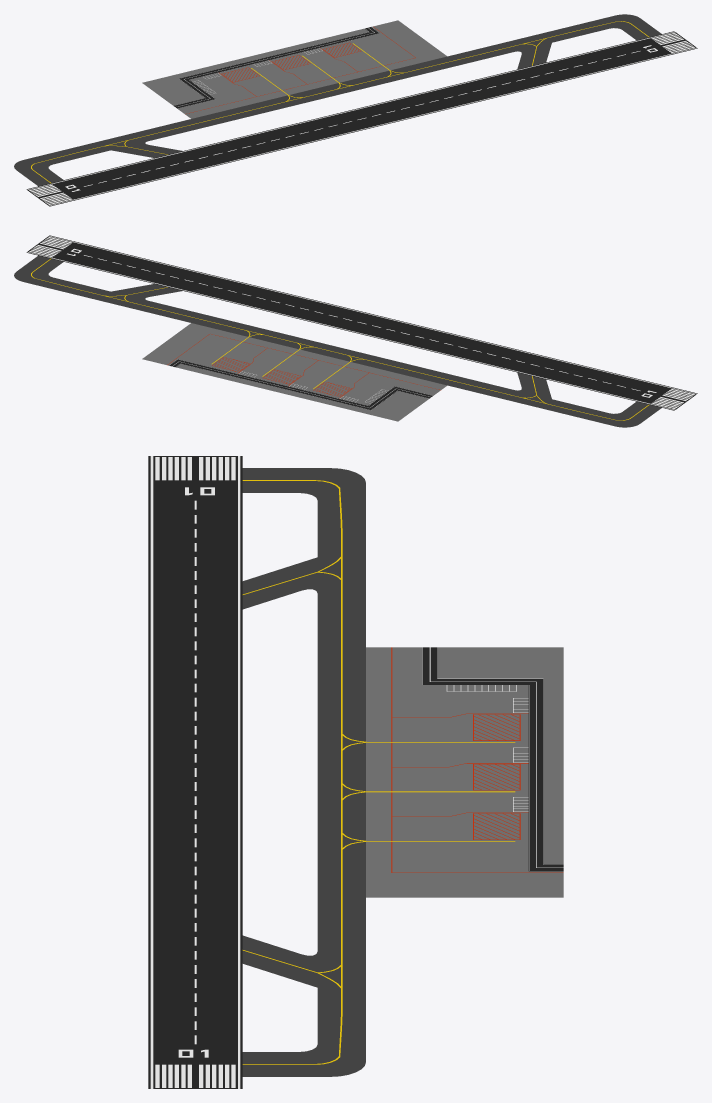
File: Airfield Ground.fbx
The picture shows the model from 3 angles, top to bottom: view 1: azimuth 30°, elevation 25°; view 2: azimuth 150°, elevation 25°; view 3: azimuth 270°, elevation 25°; orthographic projection. The views are drawn at different scales.
Visible parts, largest first — view 1: Runway, Terminal Ground, Taxiway, Runway_Markings, Taxiway_Markings; view 2: Runway, Terminal Ground, Taxiway, Runway_Markings, Taxiway_Markings; view 3: Runway, Terminal Ground, Taxiway, Runway_Markings, Taxiway_Markings, Red_Line_Markings_4.
Boxes of the visible parts, x1,y1,x2,y2 form: Runway: (26, 31, 697, 206); Terminal Ground: (142, 20, 446, 118); Taxiway: (14, 14, 661, 186); Runway_Markings: (27, 31, 696, 205); Taxiway_Markings: (31, 21, 649, 183); Runway: (26, 235, 697, 410); Terminal Ground: (142, 323, 446, 421); Taxiway: (14, 255, 661, 427); Runway_Markings: (27, 236, 696, 410); Taxiway_Markings: (31, 258, 649, 420); Runway: (148, 456, 242, 1088); Terminal Ground: (366, 647, 563, 897); Taxiway: (242, 468, 365, 1076); Runway_Markings: (150, 456, 240, 1088); Taxiway_Markings: (242, 480, 515, 1064); Red_Line_Markings_4: (391, 647, 563, 872).
Size of the model in its own units: 67720 by 1 by 18775.
3 materials, 3 textured.
